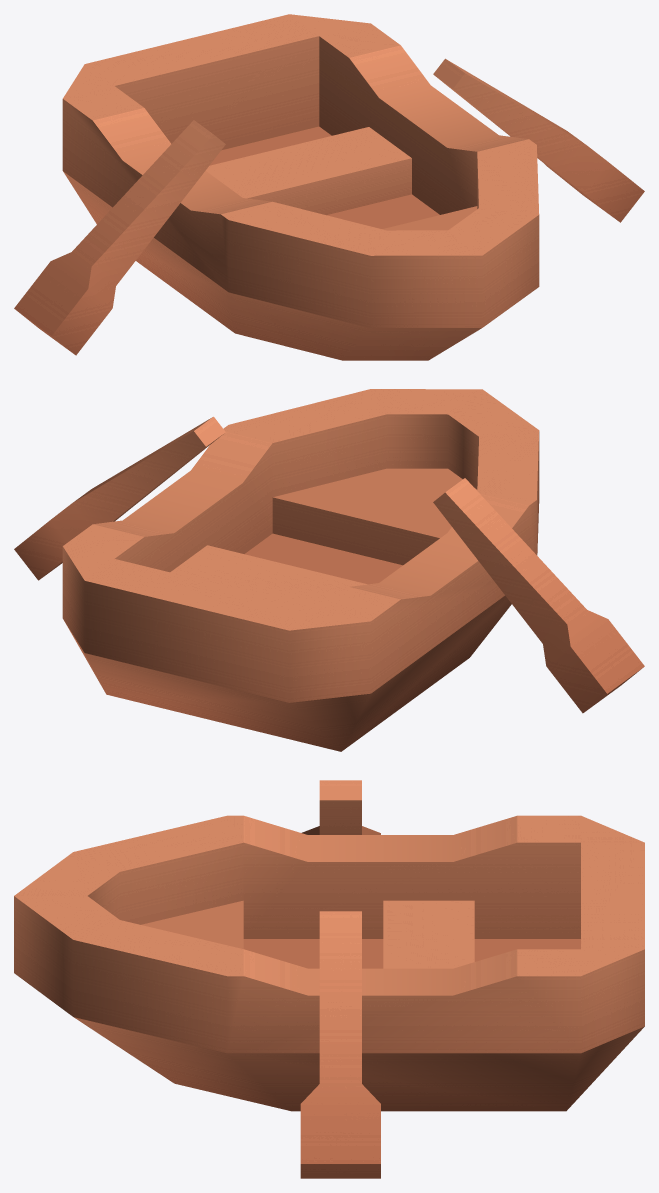
Rendered from boat-row-small.glb.
3 renders of one model, top to bottom at view 1: azimuth 30°, elevation 25°; view 2: azimuth 150°, elevation 25°; view 3: azimuth 270°, elevation 25°, orthographic. The views are drawn at different scales.
Visible parts, largest first — view 1: boat-row-small, boat-row-small.001; view 2: boat-row-small, boat-row-small.001; view 3: boat-row-small, boat-row-small.001.
Part boxes in pixels (x1,y1,x2,y2): boat-row-small: [62, 14, 539, 360]; boat-row-small.001: [14, 58, 644, 355]; boat-row-small: [62, 389, 539, 751]; boat-row-small.001: [14, 416, 644, 713]; boat-row-small: [14, 815, 644, 1111]; boat-row-small.001: [300, 780, 380, 1178].
Bounding box in the file's own units: 9.35 × 2.88 × 8.07.
Materials: 1 (1 with a texture image).
